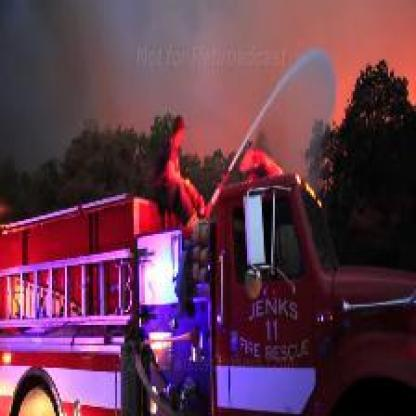other: (157, 106, 207, 222), (1, 342, 86, 410), (242, 125, 279, 191)
